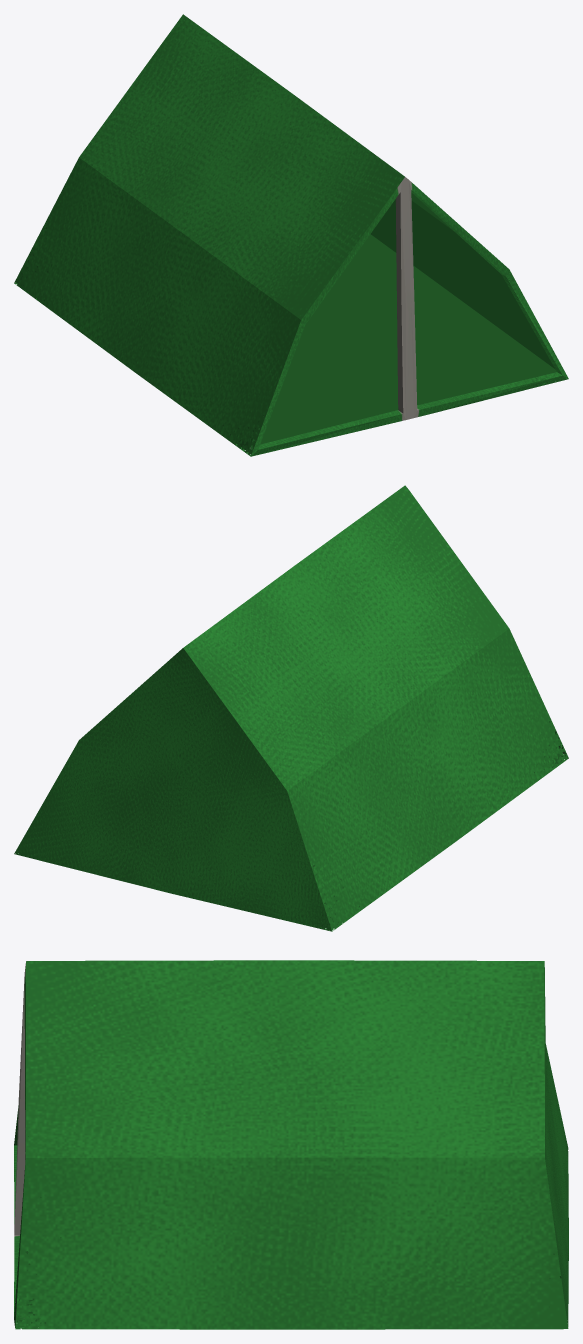
File: Tent_Small_Open.fbx
The picture shows the model from 3 angles, top to bottom: view 1: azimuth 30°, elevation 25°; view 2: azimuth 150°, elevation 25°; view 3: azimuth 270°, elevation 25°; orthographic projection. The views are drawn at different scales.
Parts seen in each view (by area): view 1: Tent_Small_Open; view 2: Tent_Small_Open; view 3: Tent_Small_Open.
Boxes of the visible parts, x1,y1,x2,y2 form: Tent_Small_Open: (14,14,568,456); Tent_Small_Open: (14,485,568,931); Tent_Small_Open: (14,960,568,1329).
Size of the model in its own units: 217 by 156 by 280.
